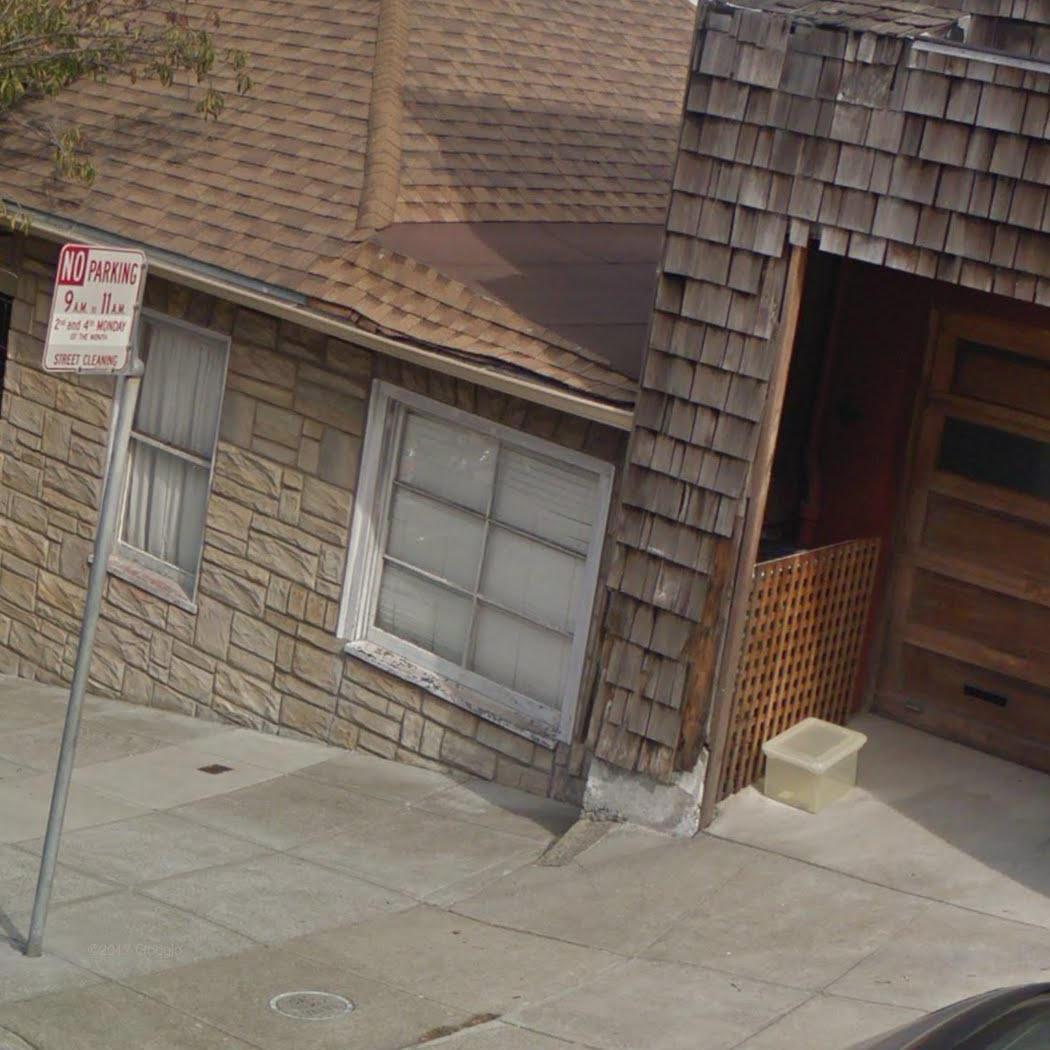No Parking: (42, 239, 147, 377)
